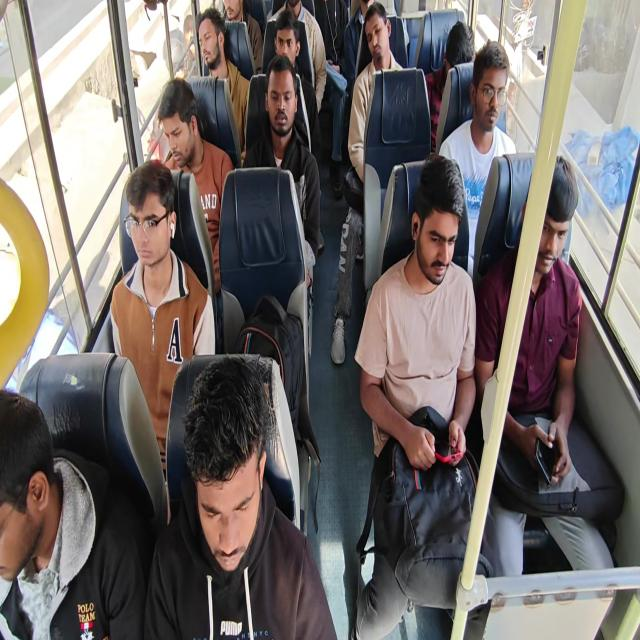person: (352, 153, 492, 638), (474, 153, 618, 578), (143, 354, 338, 639), (0, 388, 146, 638), (108, 159, 215, 482), (330, 2, 405, 365), (242, 54, 321, 295), (438, 40, 517, 278), (157, 77, 234, 293), (347, 2, 405, 185), (304, 0, 351, 198), (197, 7, 250, 155), (271, 9, 322, 158), (424, 20, 475, 152), (221, 0, 263, 73), (343, 0, 376, 89)
